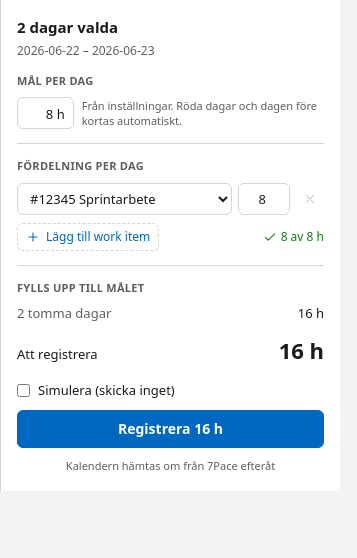
Test case: SelectionPanel › shows per-day failures after a partial success
What coordinates should you click on to do the following:
click the button "Registrera 16 h"
I would click on:
 (170, 429)
Its box is [17,410,324,448].
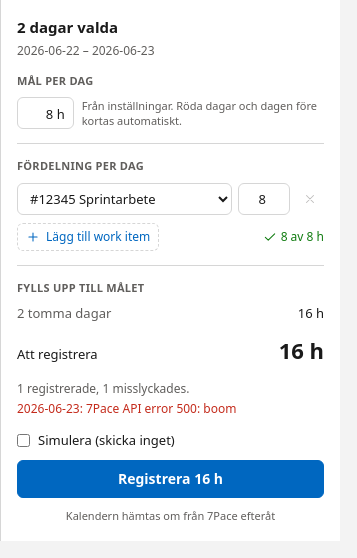
Result: the text "2026-06-23: 7Pace API error 500: boom" is shown at [17,400,236,416]
